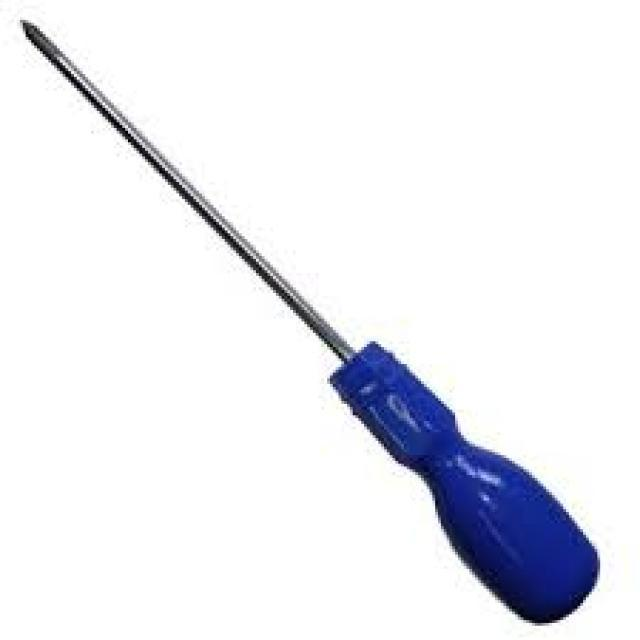screwdriver: (17, 13, 603, 630)
